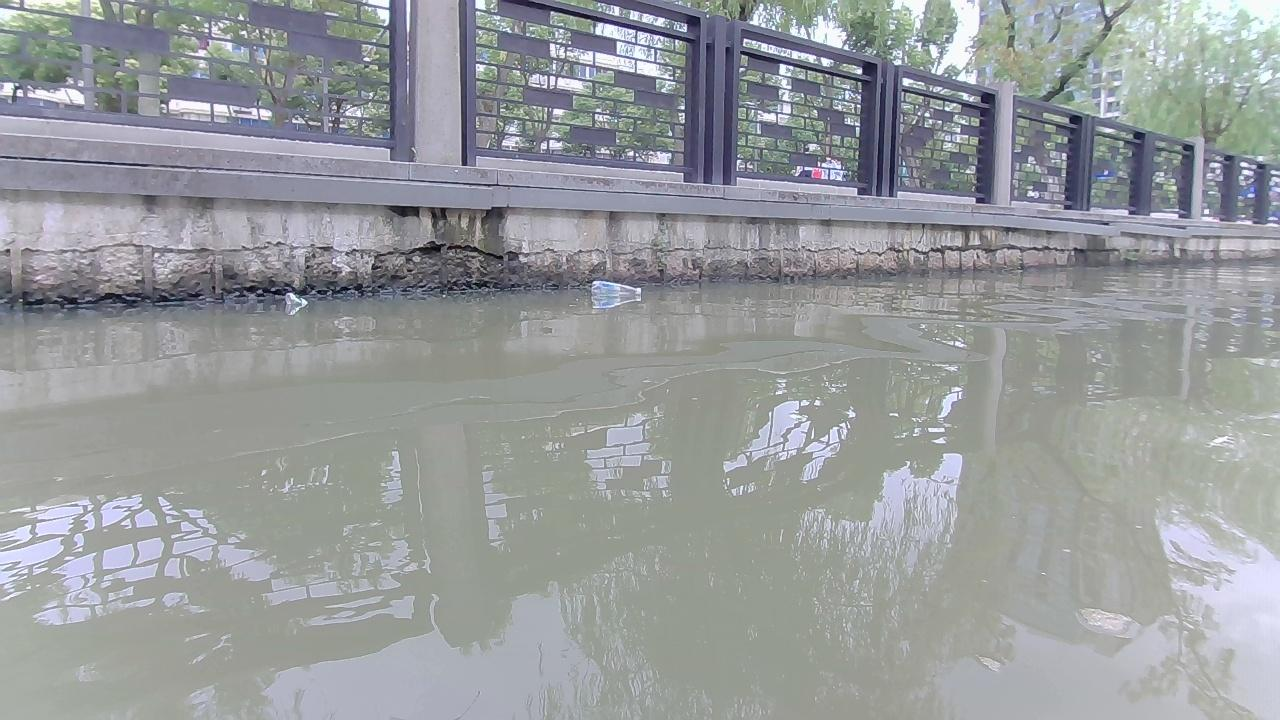bottle: (590, 279, 641, 295), (284, 292, 307, 304)
